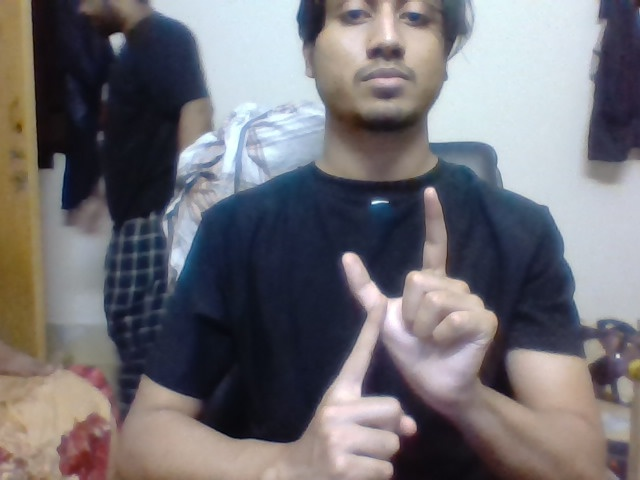Y: (323, 186, 454, 376)
